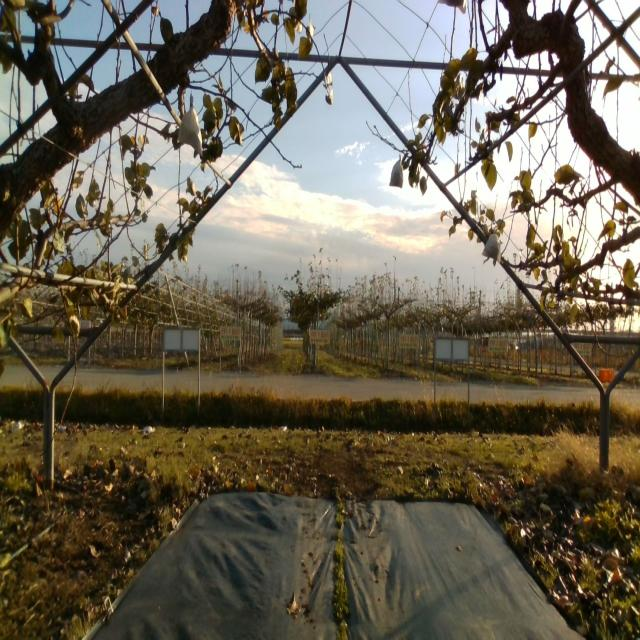pearbags: (178, 95, 204, 155), (482, 230, 502, 262), (390, 154, 404, 190)
